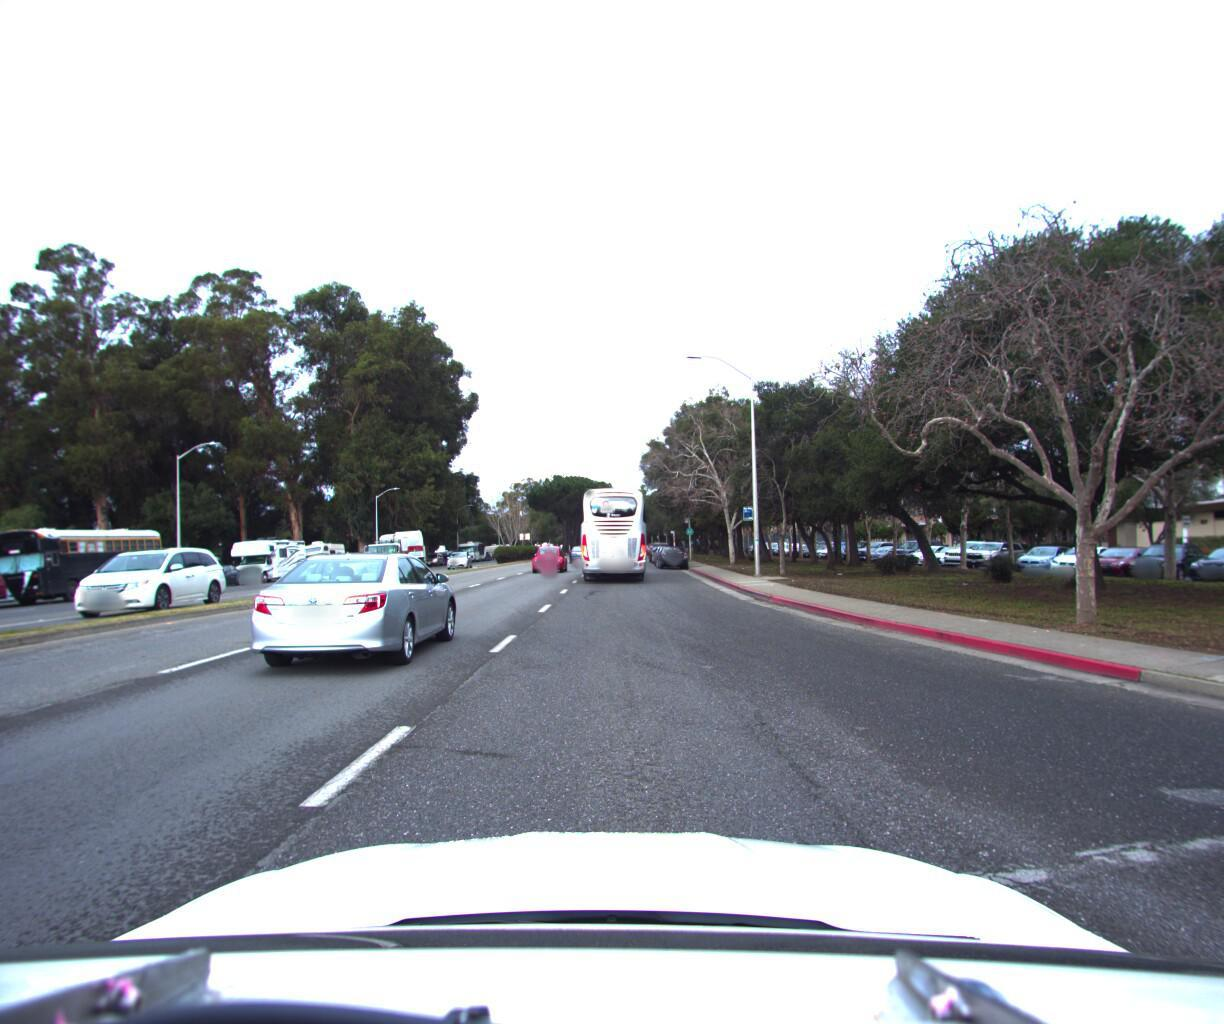bus: (0, 517, 170, 610), (570, 480, 653, 584)
car: (238, 542, 470, 676), (55, 540, 235, 614), (530, 540, 570, 570), (653, 537, 688, 564), (0, 561, 14, 623), (444, 544, 473, 564), (566, 538, 591, 557), (0, 542, 2, 688)
other_vehicle: (224, 528, 311, 584), (286, 533, 349, 575)
truck: (361, 521, 433, 571)
